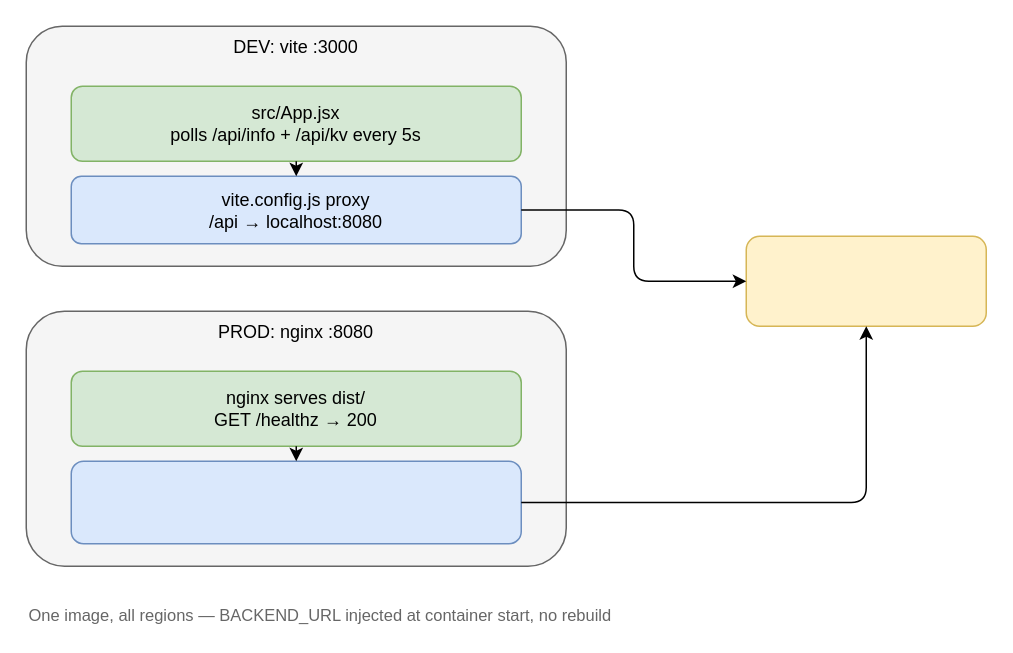
Some shapes in this 1013 by 653 pixel diagram are drawn without their labels. The shapes that lost their labels are listed below. From the top down, each one's centre as x and y in pixels, then its label:
the point at 865,280: backend :8080
the point at 295,502: default.conf.template /api/ → ${BACKEND_URL} (envsubst at start)
